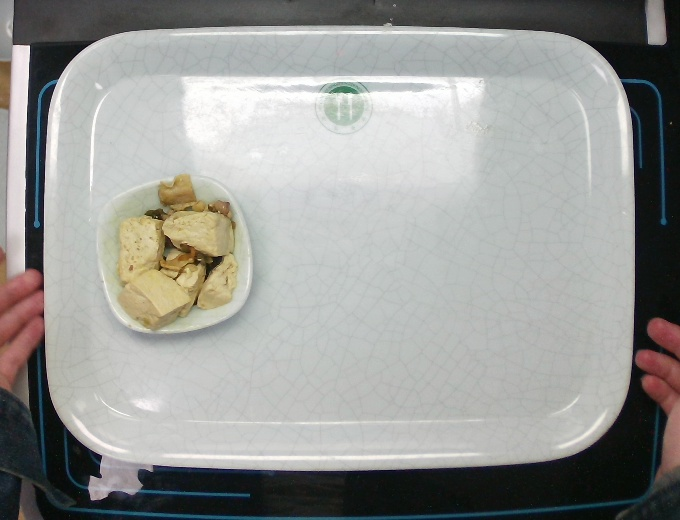JYsf-Si_Fang_Die: (92, 168, 257, 342)
